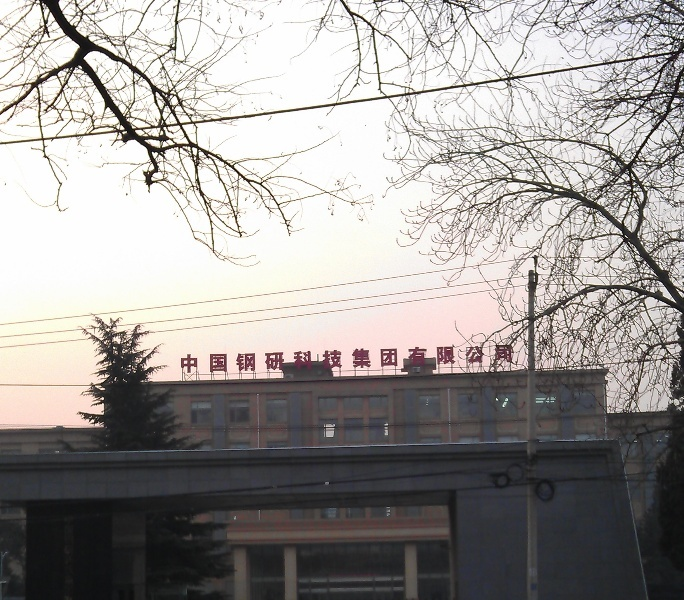text: (193, 344, 208, 375), (209, 344, 224, 375), (225, 344, 240, 375), (241, 344, 256, 375), (257, 344, 272, 375), (273, 344, 288, 375), (289, 344, 304, 375), (305, 344, 320, 375), (321, 344, 336, 375), (337, 344, 352, 375), (353, 344, 368, 375), (369, 344, 384, 375), (385, 344, 400, 375), (401, 344, 416, 375), (417, 344, 432, 375), (433, 344, 448, 375), (449, 344, 464, 375), (465, 344, 480, 375), (481, 344, 496, 375), (497, 344, 512, 375), (179, 344, 192, 375), (513, 344, 514, 375)
